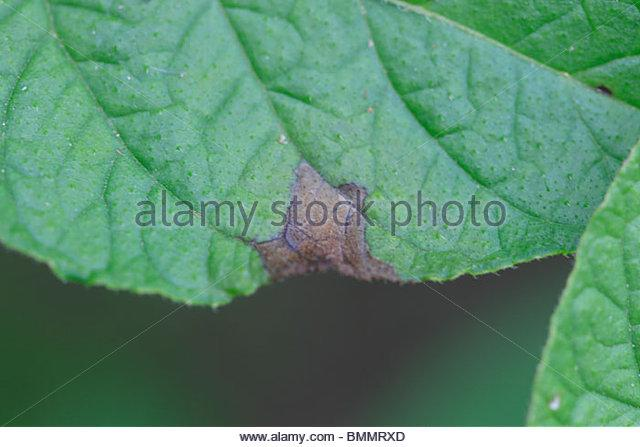Potato leaf late blight: (1, 1, 635, 309)
